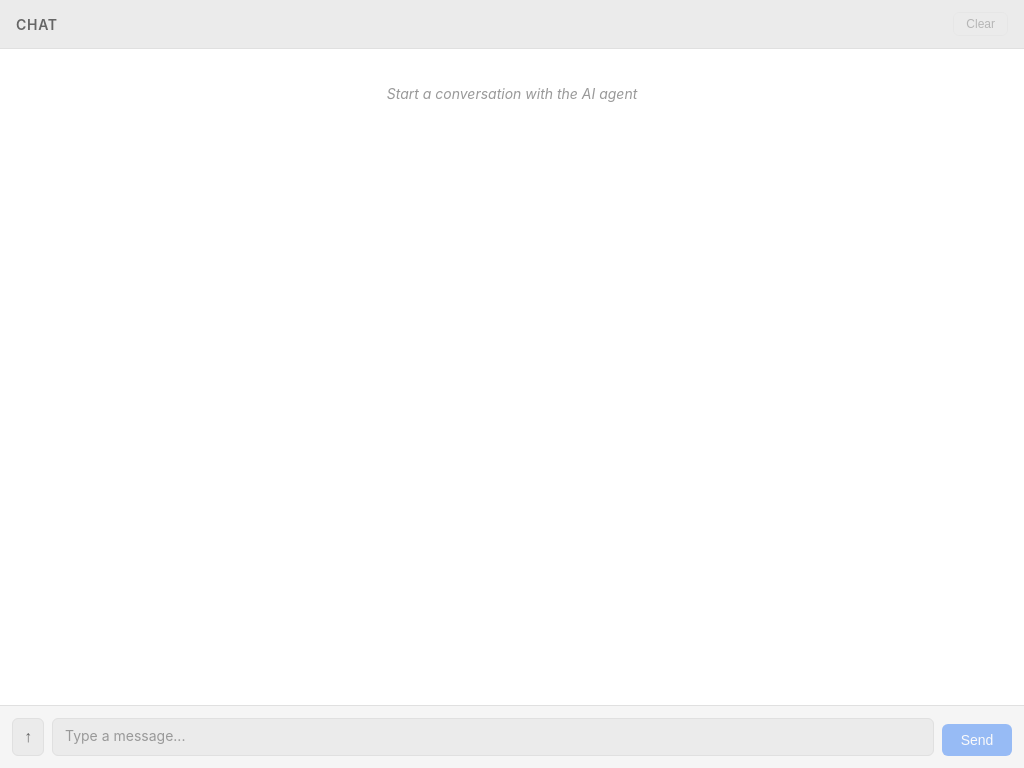
it: ChatPanel › prompt history › opens history dropdown when button is clicked
Click the button titled "Prompt history" at (28, 737), box 12,718 -> 44,756
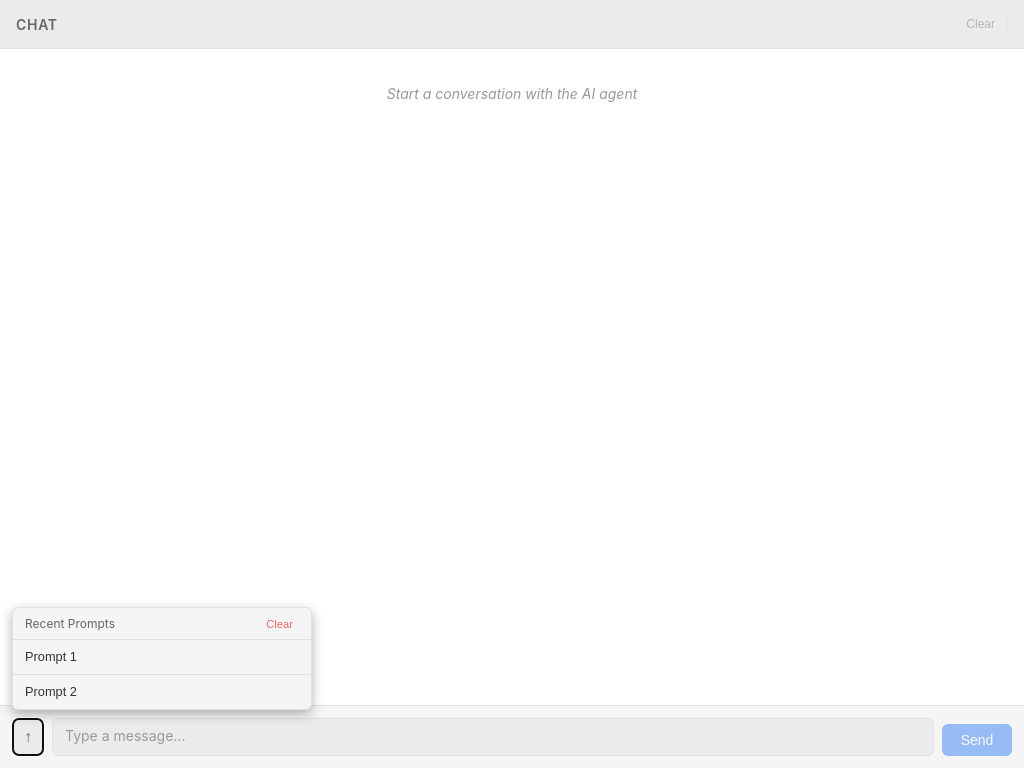
Result: the text "Recent Prompts" is shown at 25,616 -> 115,631
Result: the button "Prompt 1" is shown at 13,640 -> 311,675
Result: the button "Prompt 2" is shown at 13,675 -> 311,709
